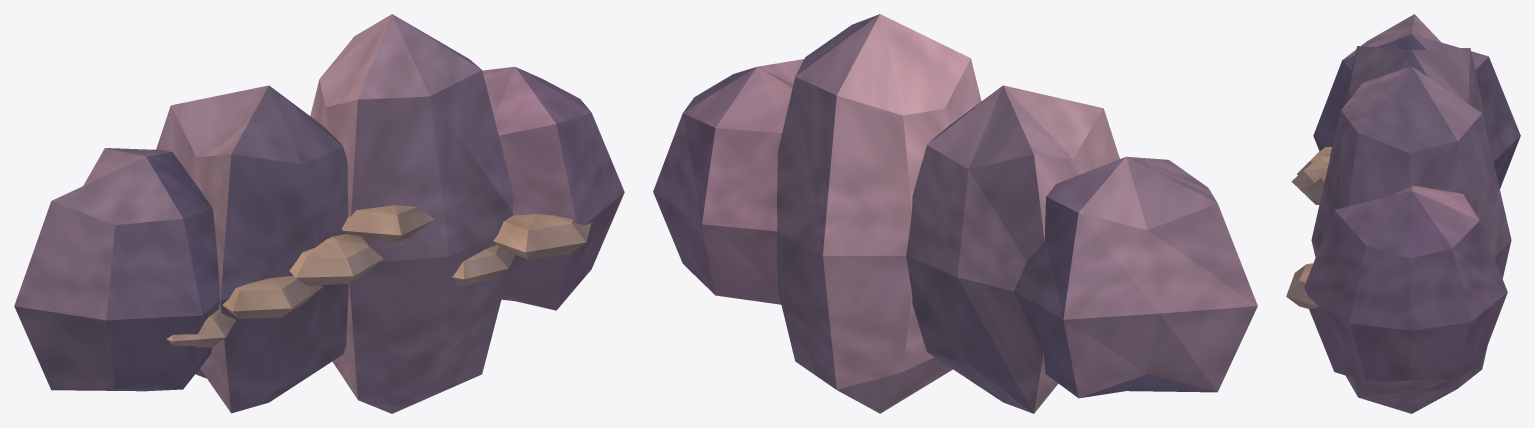
File: mine_wall.glb
3 views of the same model, side by side, from view 1: azimuth 30°, elevation 25°; view 2: azimuth 150°, elevation 25°; view 3: azimuth 270°, elevation 25° (orthographic). The views are drawn at different scales.
Visible parts, largest first — view 1: Minensohle · Felsrand und Stützbalken; view 2: Minensohle · Felsrand und Stützbalken; view 3: Minensohle · Felsrand und Stützbalken.
Part boxes in pixels (bbox=[...]): Minensohle · Felsrand und Stützbalken: bbox=[14, 14, 624, 413]; Minensohle · Felsrand und Stützbalken: bbox=[653, 14, 1257, 413]; Minensohle · Felsrand und Stützbalken: bbox=[1286, 14, 1520, 413].
Bounding box in the file's own units: 2.69 × 1.74 × 1.06.
1 material, 1 textured.
